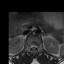CCS_normal: (32, 43, 34, 51)
LFS_normal: (36, 44, 38, 49)
LLS_normal: (35, 44, 36, 50)
RFS_normal: (28, 44, 30, 49)
RLS_normal: (30, 43, 32, 49)
